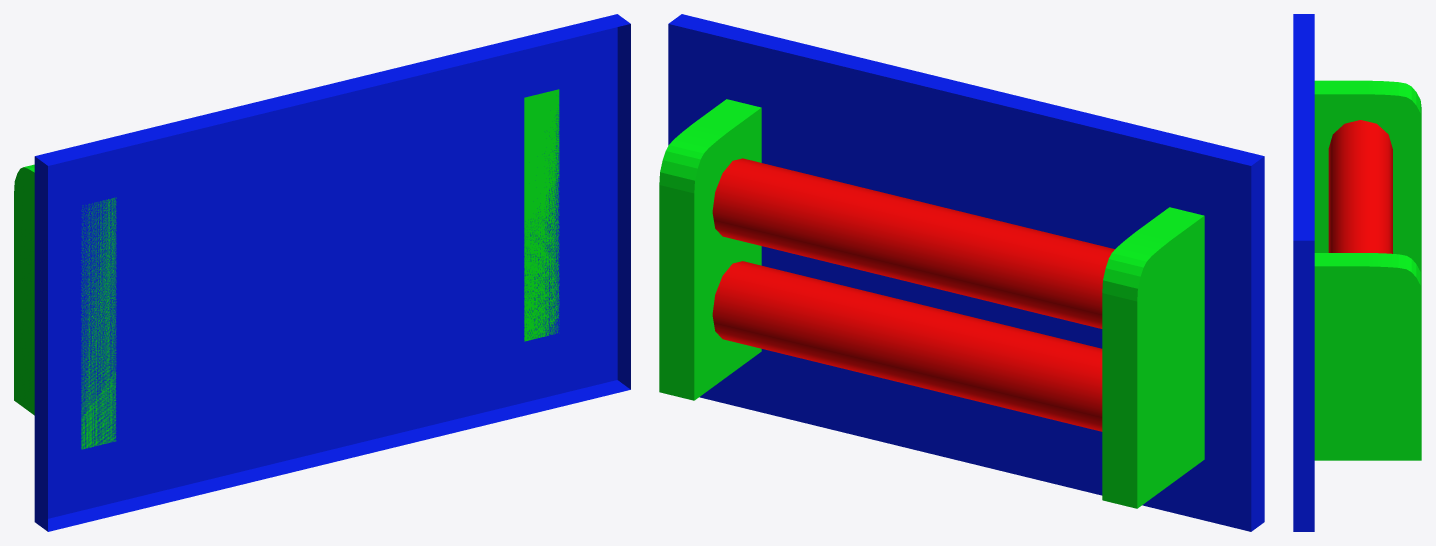
The model's file is ScifiWallLight.fbx.
The picture shows the model from 3 angles, left to right: view 1: azimuth 30°, elevation 25°; view 2: azimuth 150°, elevation 25°; view 3: azimuth 270°, elevation 25°; orthographic projection. The views are drawn at different scales.
Visible parts, largest first — view 1: ScifiWallLight, RightSideLampShield, LeftSideLampShield; view 2: ScifiWallLight, TopLamp, BottomLamp, RightSideLampShield, LeftSideLampShield; view 3: LeftSideLampShield, ScifiWallLight, RightSideLampShield, TopLamp.
Part boxes in pixels (bbox=[...]): ScifiWallLight: bbox=[34, 14, 630, 531]; RightSideLampShield: bbox=[14, 164, 116, 449]; LeftSideLampShield: bbox=[524, 89, 559, 341]; ScifiWallLight: bbox=[668, 14, 1264, 531]; TopLamp: bbox=[712, 158, 1114, 328]; BottomLamp: bbox=[712, 261, 1102, 431]; RightSideLampShield: bbox=[1102, 207, 1204, 508]; LeftSideLampShield: bbox=[659, 99, 761, 400]; LeftSideLampShield: bbox=[1314, 253, 1421, 460]; ScifiWallLight: bbox=[1293, 14, 1314, 531]; RightSideLampShield: bbox=[1314, 80, 1421, 278]; TopLamp: bbox=[1328, 120, 1392, 253].
Size of the model in its own units: 500 by 300 by 120.
